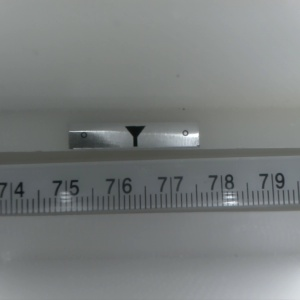4: (14, 182, 25, 197)
5: (69, 180, 79, 195)
6: (121, 177, 131, 193)
7: (157, 176, 167, 192), (105, 178, 115, 194), (258, 174, 268, 189), (173, 176, 183, 191), (52, 181, 62, 196), (208, 175, 217, 190), (0, 183, 7, 198)
8: (224, 174, 233, 189)
9: (275, 173, 284, 189)
finger: (123, 126, 145, 148)
